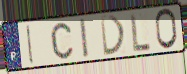C: (50, 21, 75, 61)
D: (99, 14, 127, 58)
I: (78, 17, 90, 60), (25, 24, 35, 67)
L: (128, 12, 152, 54)
O: (154, 8, 179, 51)
